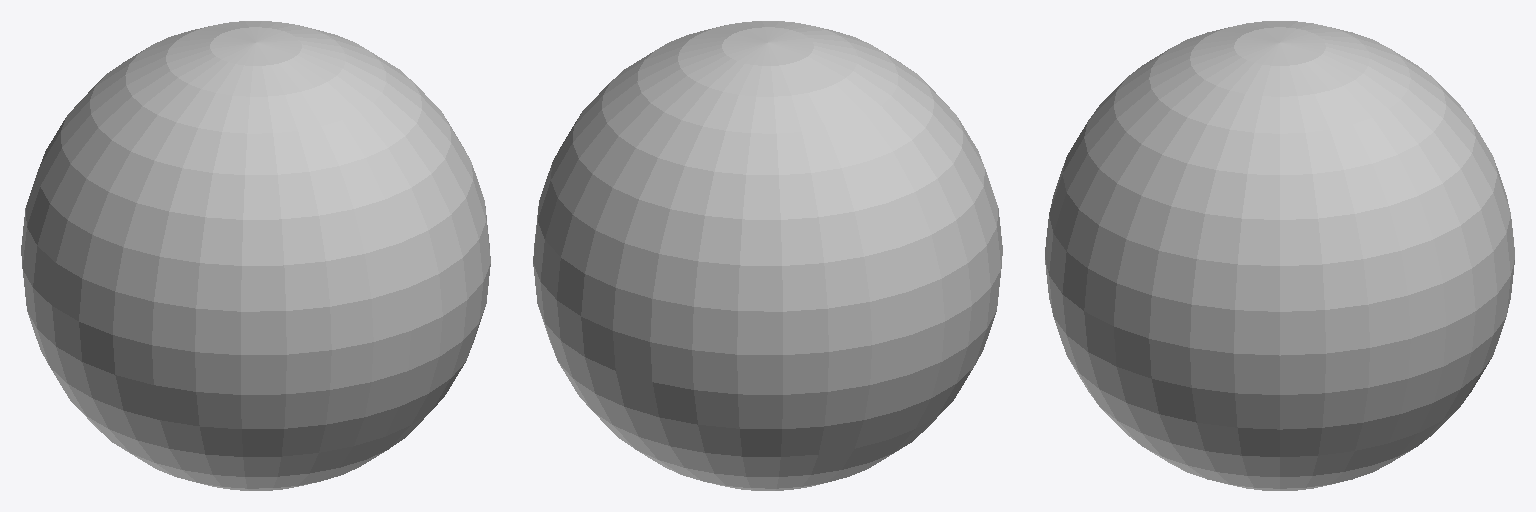
Rendered from smallInvNormSphere.obj.
The picture shows the model from 3 angles: view 1: azimuth 30°, elevation 25°; view 2: azimuth 150°, elevation 25°; view 3: azimuth 270°, elevation 25°; orthographic projection.
Visible parts, largest first — view 1: Sphere; view 2: Sphere; view 3: Sphere.
Boxes of the visible parts, x1=… form: Sphere: x1=21, y1=21, x2=490, y2=490; Sphere: x1=533, y1=21, x2=1002, y2=490; Sphere: x1=1045, y1=21, x2=1514, y2=490.
Bounding box in the file's own units: 0.5 × 0.5 × 0.5.